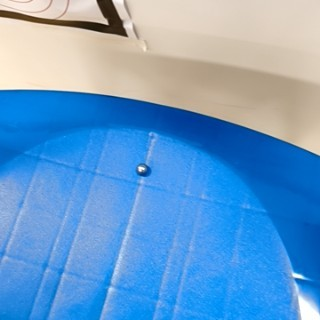ironball: (130, 156, 157, 180)
